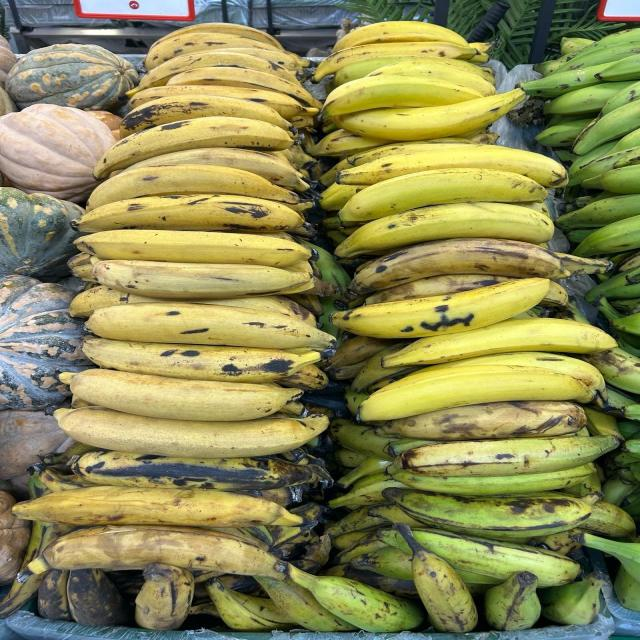platano: (134, 28, 338, 336)
